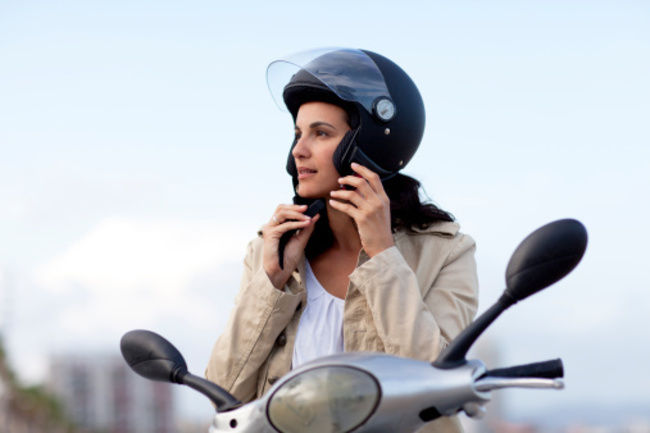helmet: (250, 34, 434, 194)
